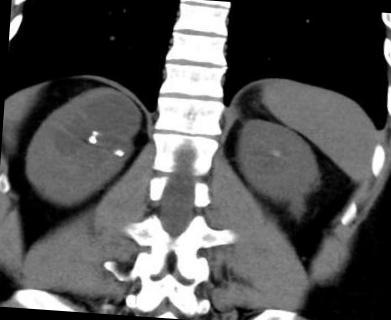Tas_Var: (85, 136, 98, 144), (113, 150, 125, 158), (90, 130, 97, 136)
